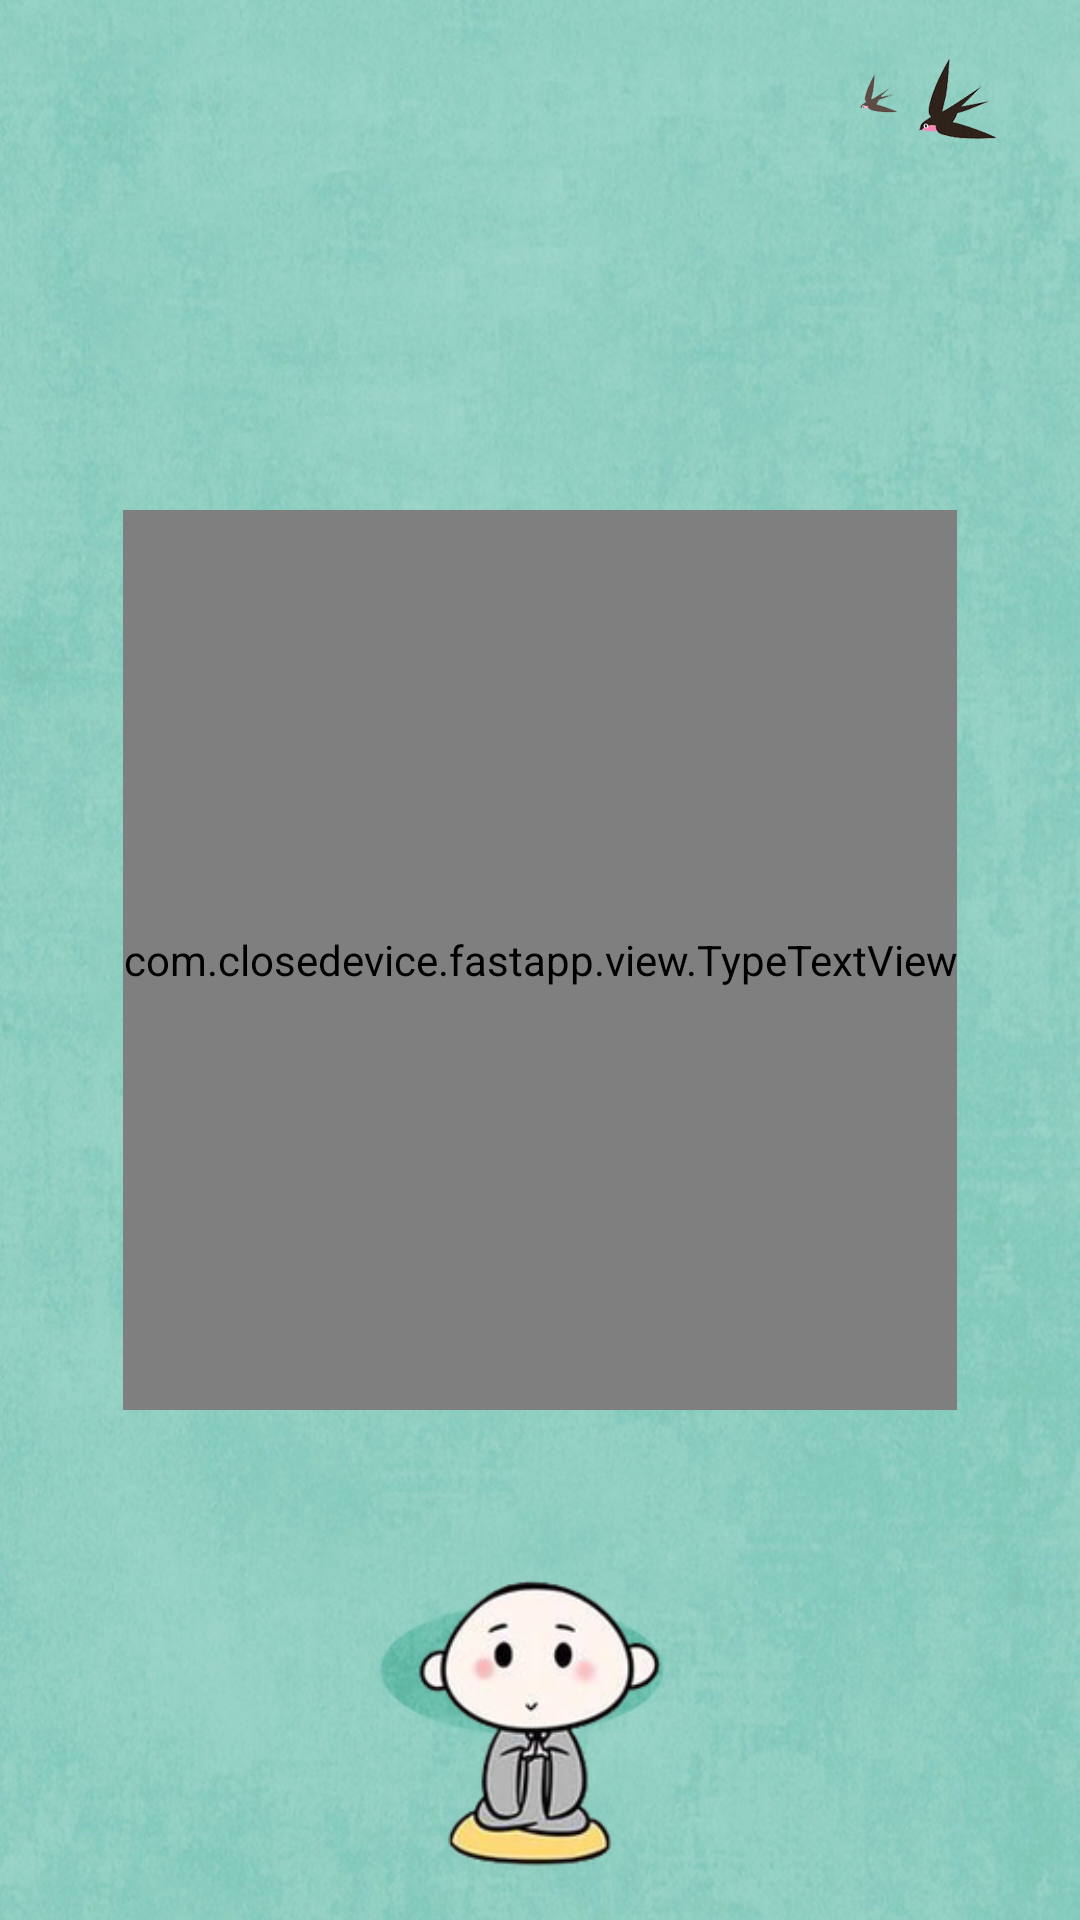

Screen size 1080×1920. Icon name, then its center in pixels as (x=x, y=y):
appstart bird: (x=928, y=99)
